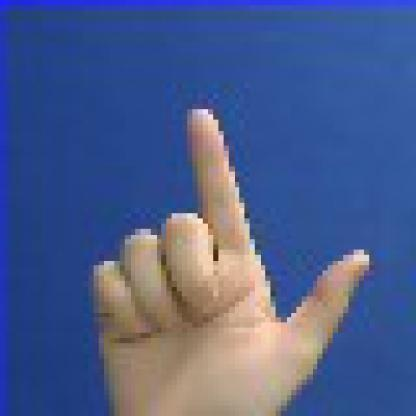seven: (57, 88, 385, 411)
